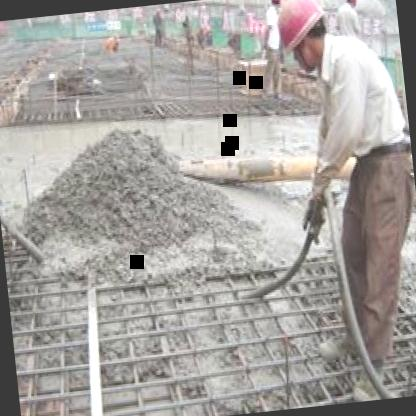helmet: (274, 0, 336, 73)
